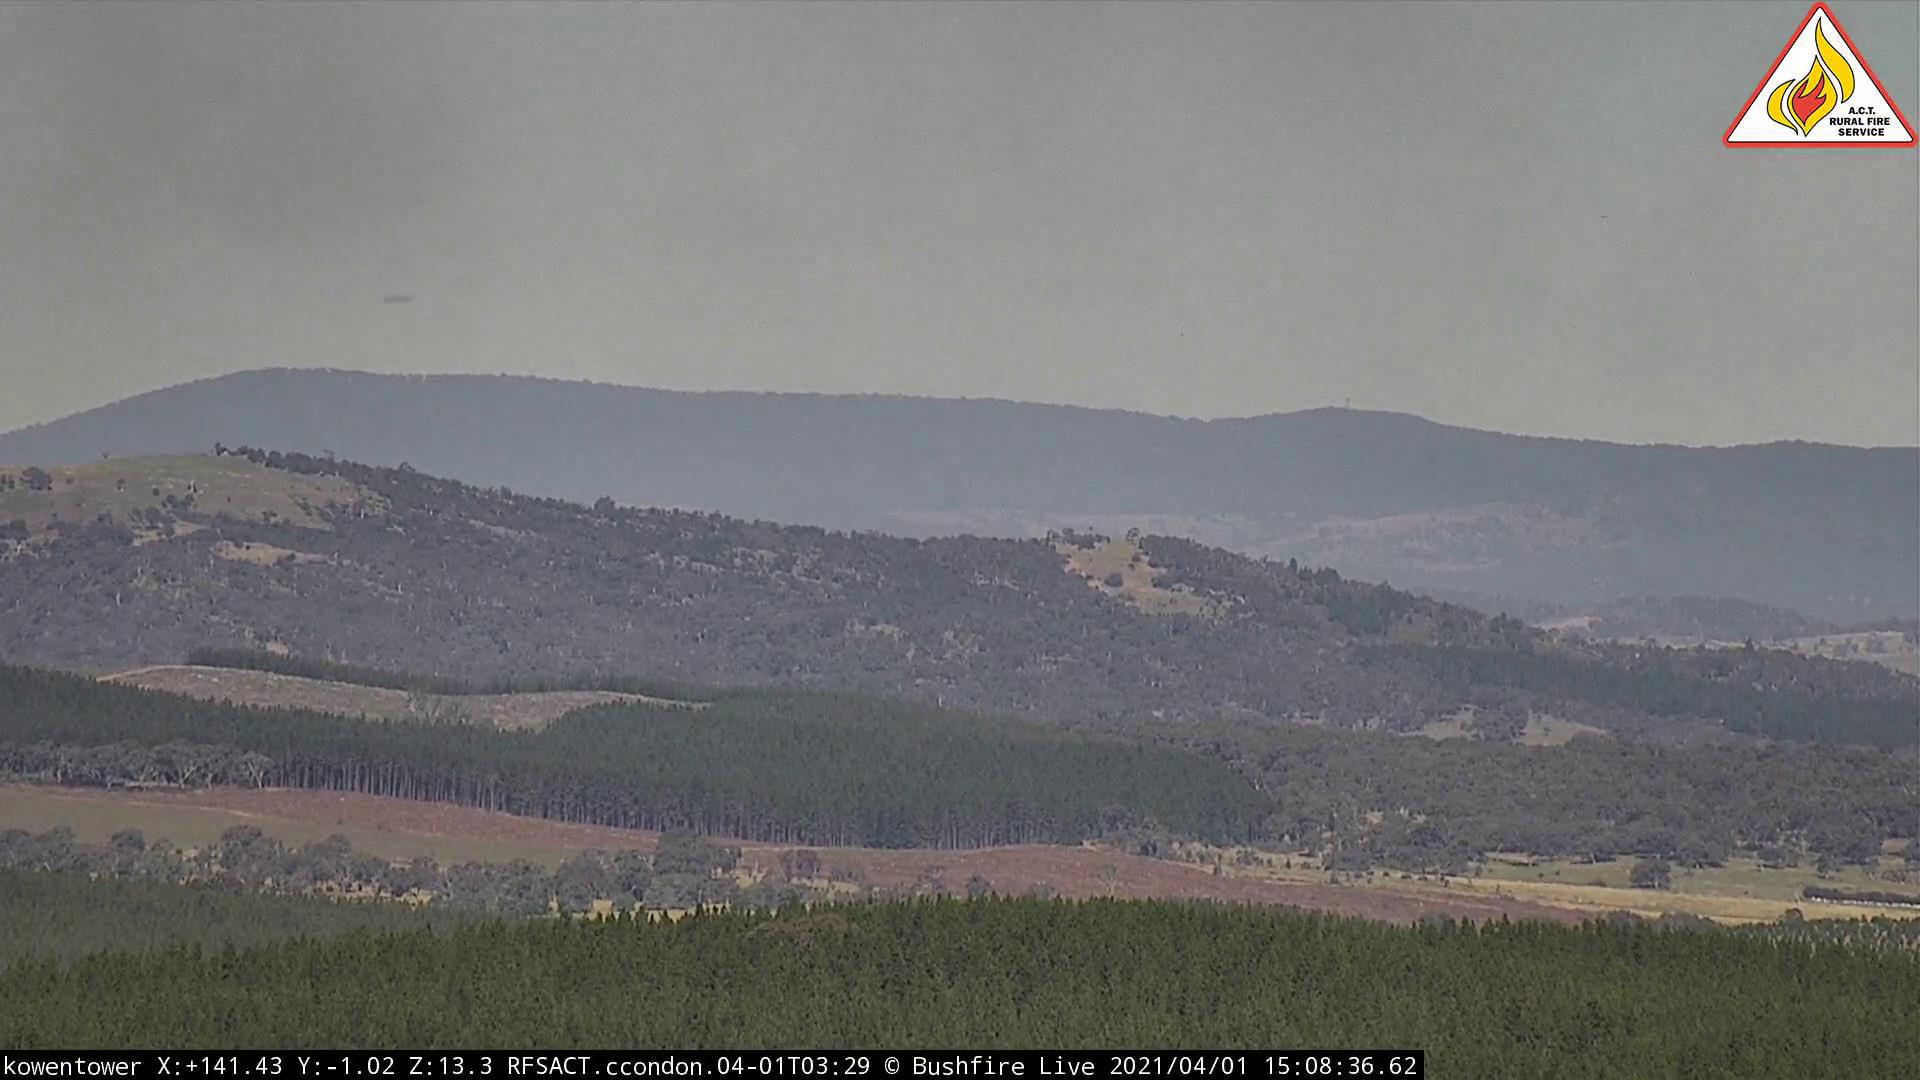instance_salient_object: (3, 3, 585, 421)
